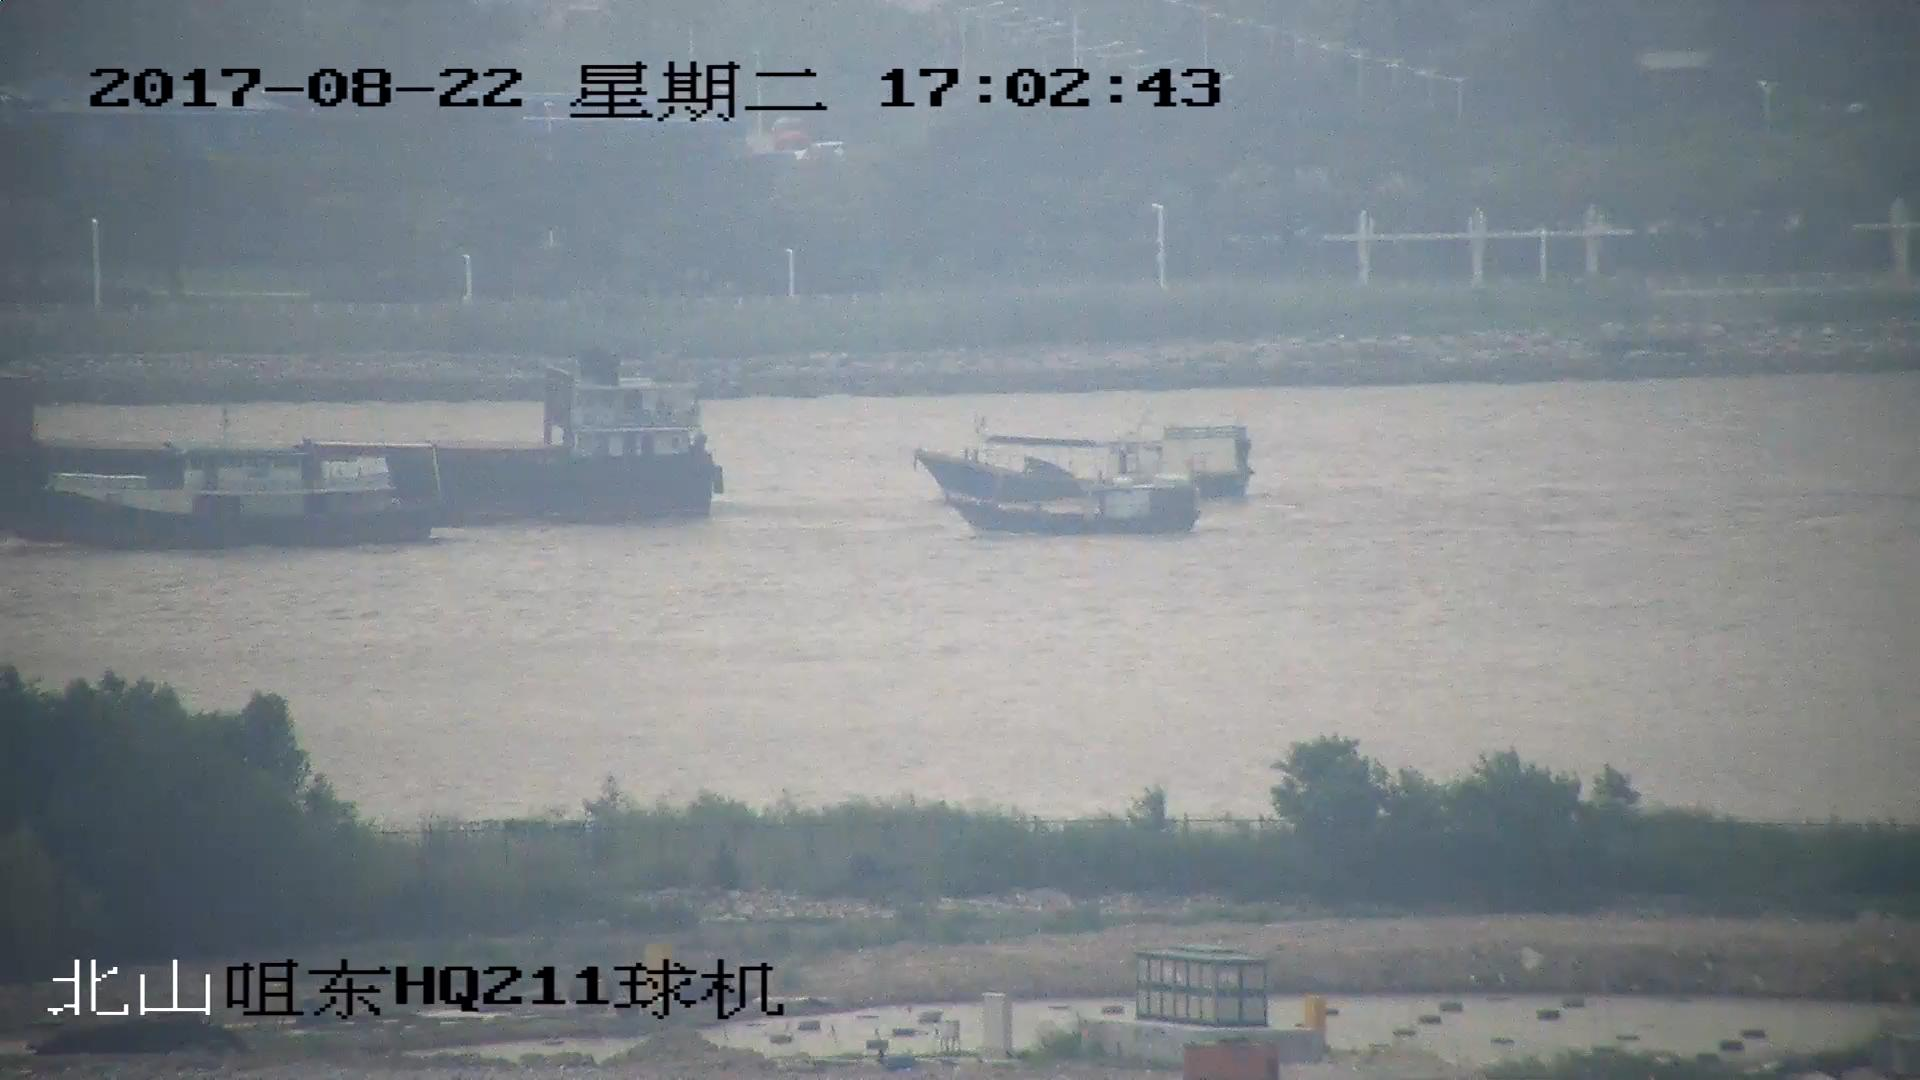fishing boat: (51, 454, 440, 552), (919, 412, 1248, 508), (951, 484, 1202, 541)
general cargo ship: (1, 361, 718, 531)
